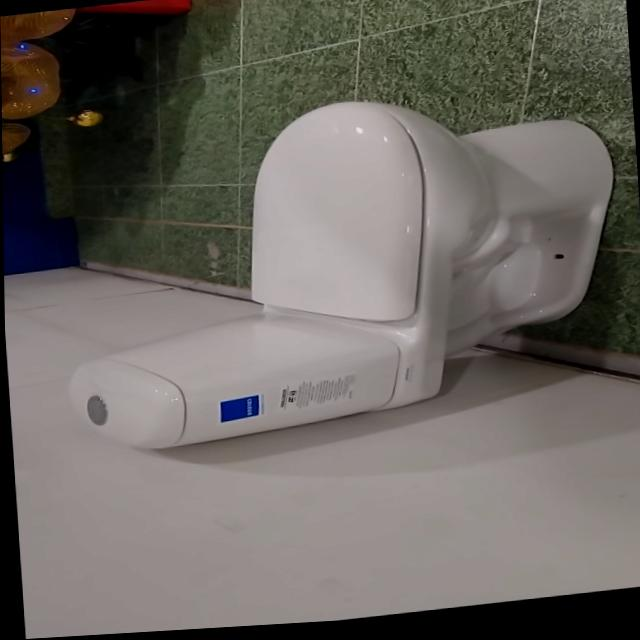toilet: (51, 79, 629, 462)
